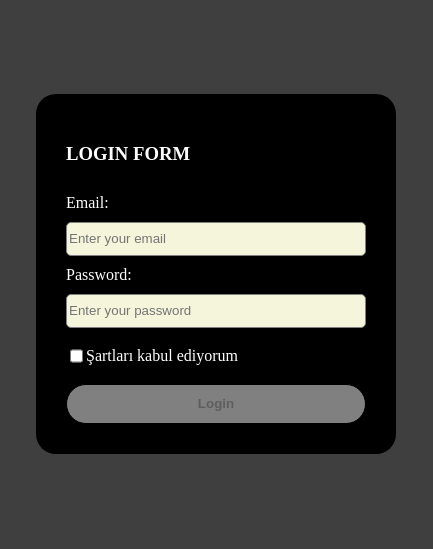
Test case: Login formu testleri › Geçersiz email ve pswd testi
Type "testexample.com" into the field with test id "emailInput". click: (216, 239)
box: [66,222,366,256]
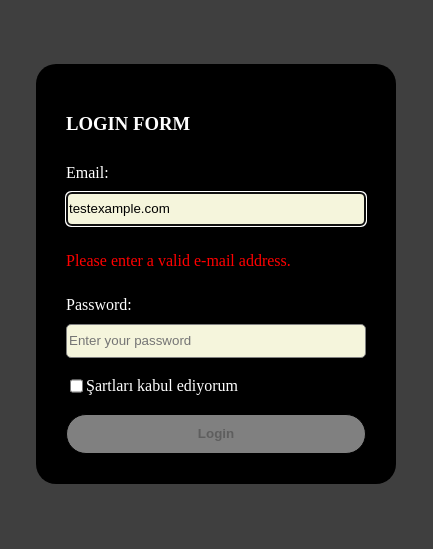
Type "test" into the password field with test id "passwordInput". click: (216, 341)
box: [66,324,366,358]
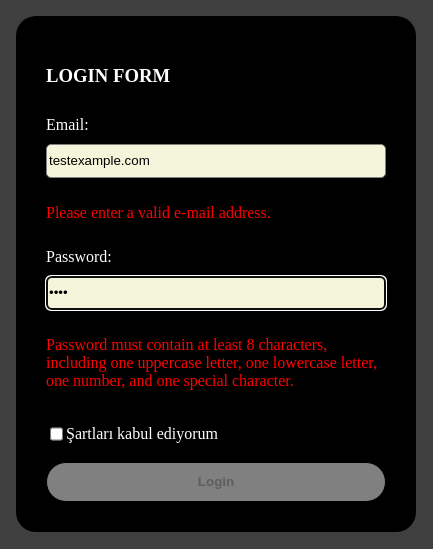
Expected: the text with test id "emailError" reads "Please enter a valid e-mail address.", [46,204,271,221]
Expected: the text with test id "pswdError" is shown, [46,336,386,390]
Expected: the text with test id "pswdError" shows "Password must contain at least 8 characters, including one uppercase letter, one lowercase letter, one number, and one special character.", [46,336,377,389]
